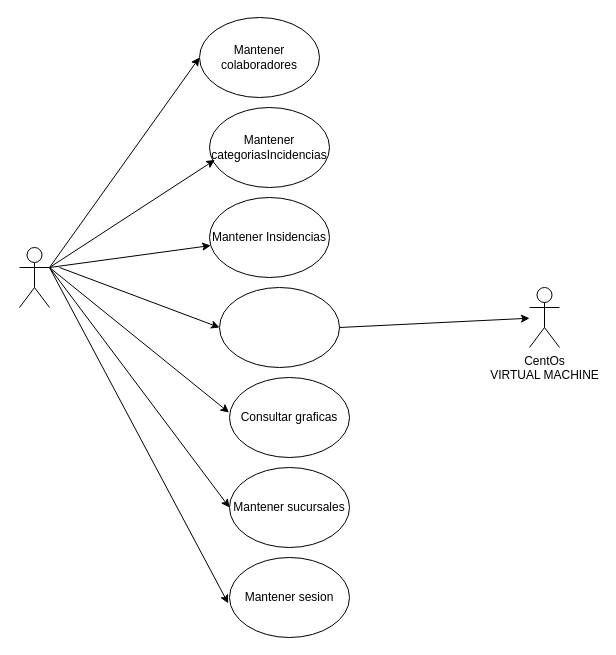
Image size: 616x655. Some labels were removed from this diagram. Each missing label, with the centre of its shape:
"Admin" belongs at (x=34, y=277).
"Mantener alarmas" belongs at (x=279, y=327).
